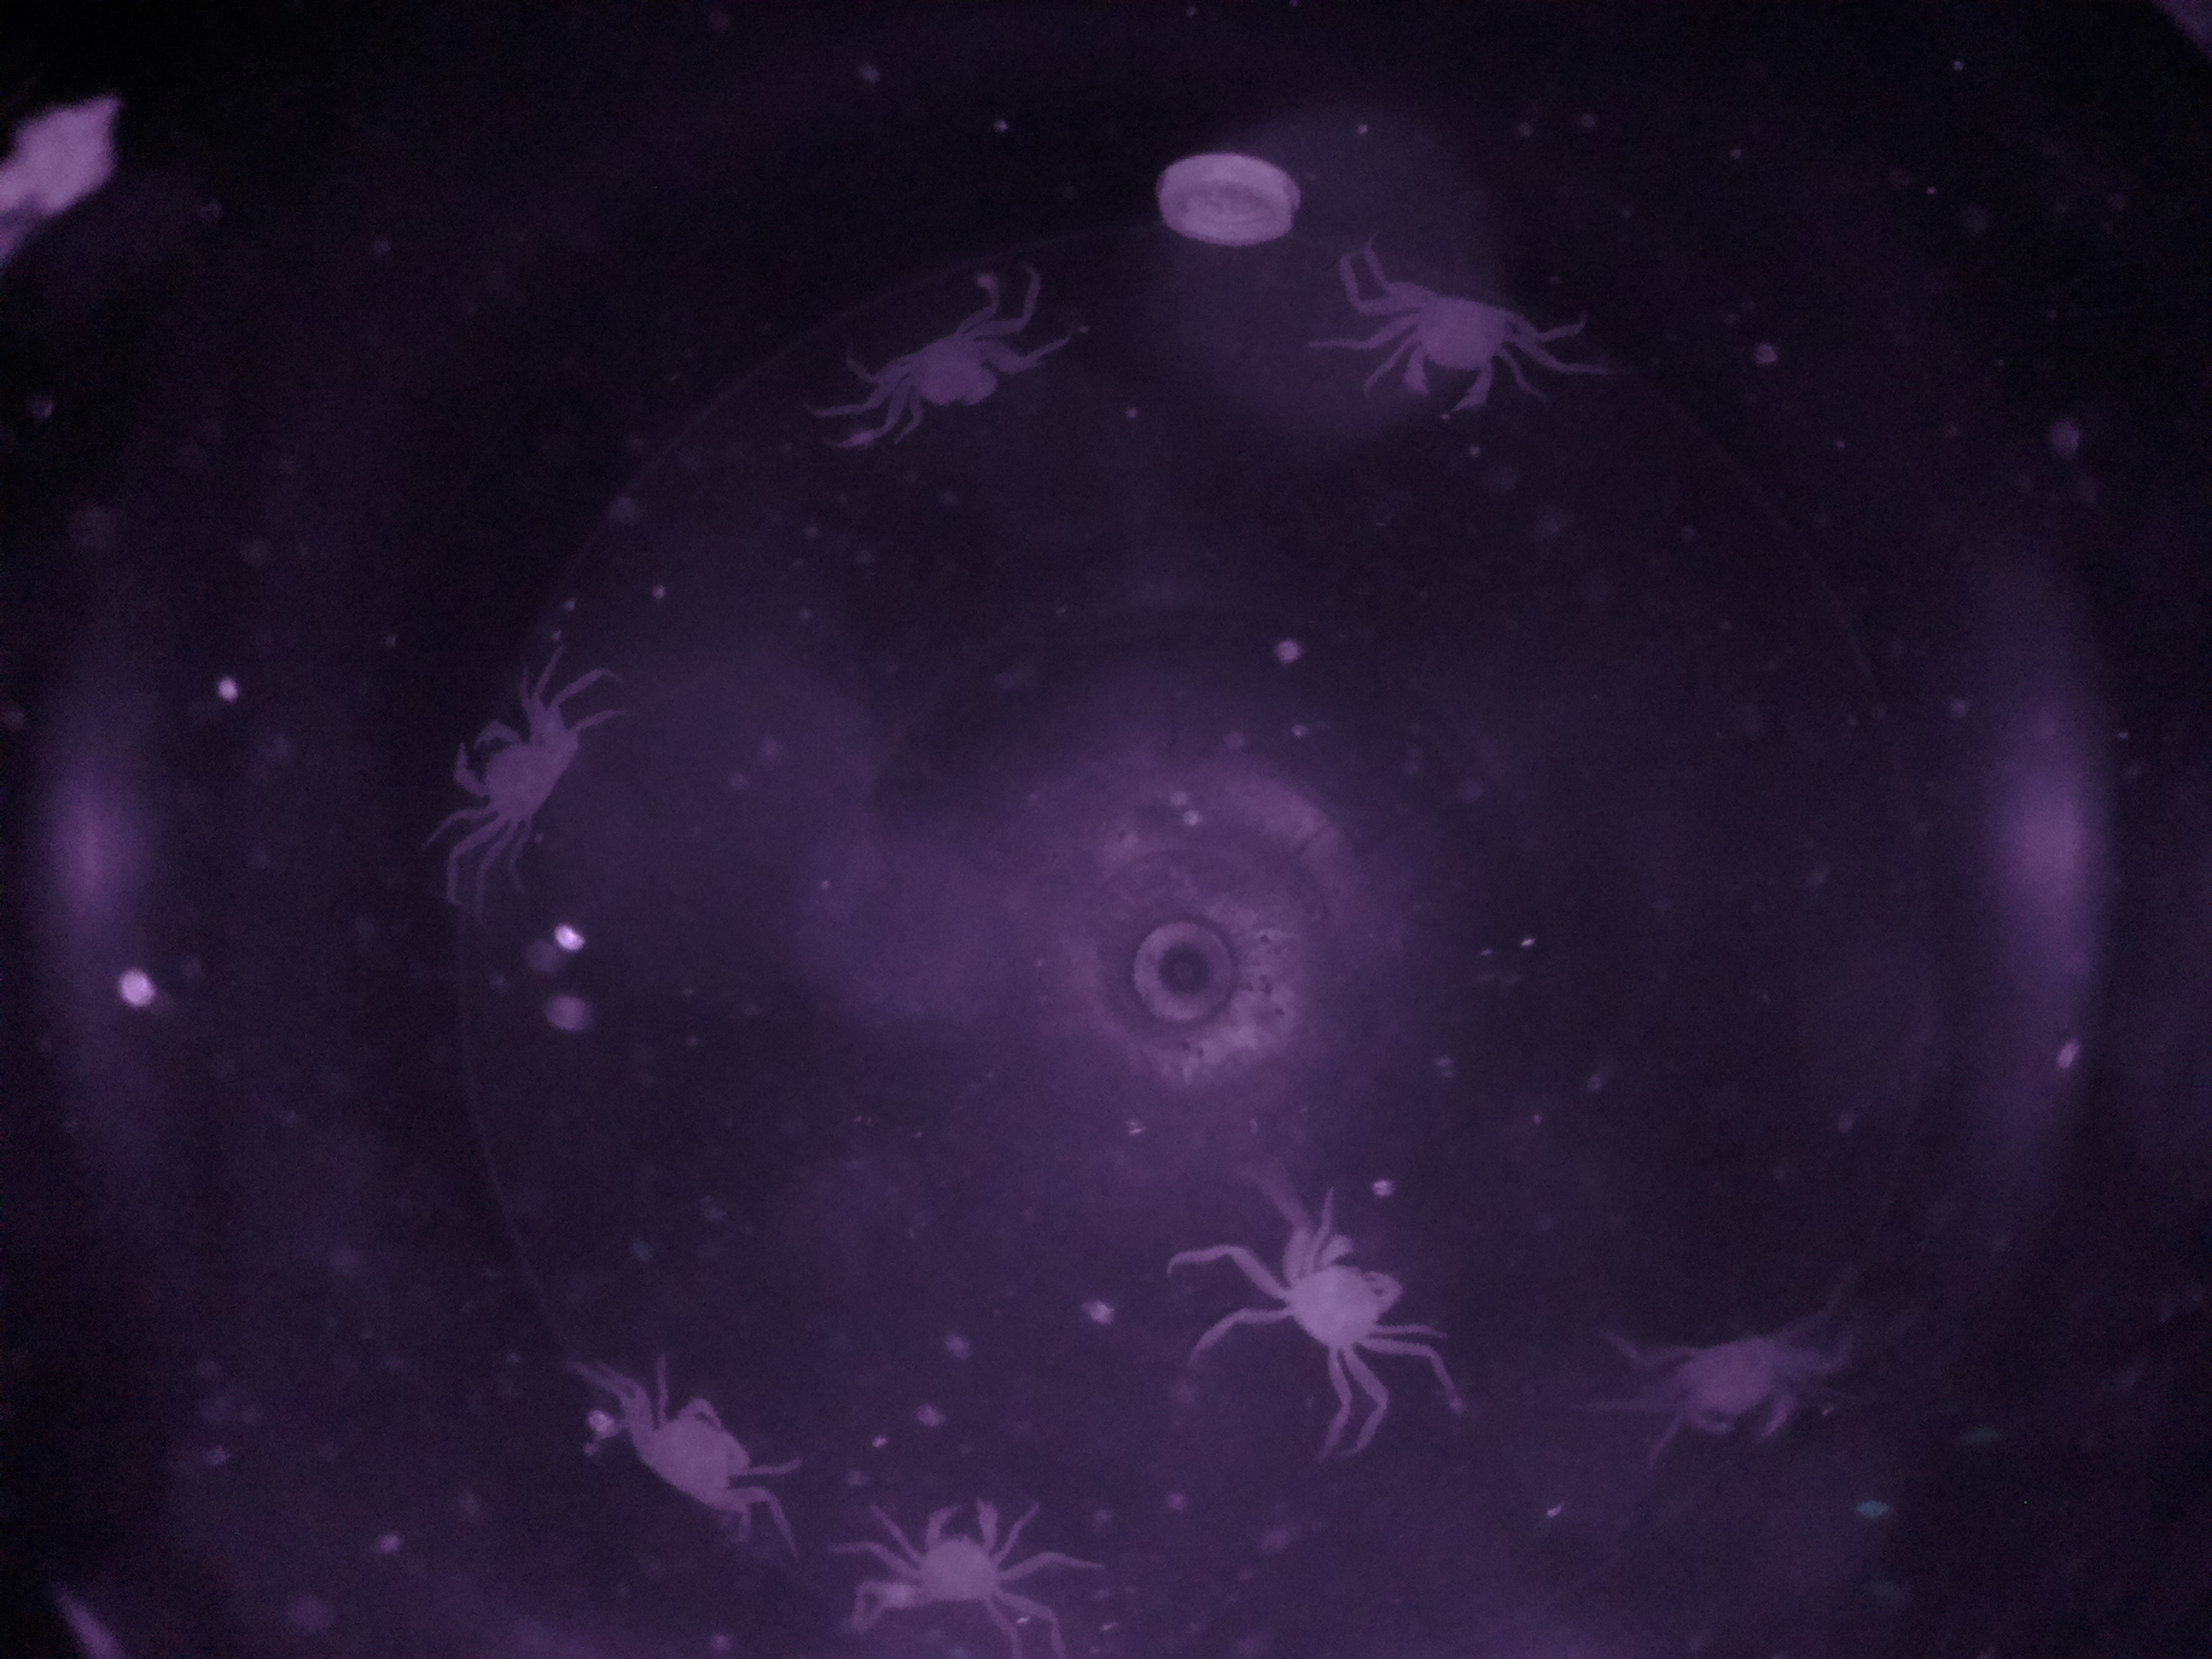Crab: (853, 1476, 1068, 1629), (592, 1375, 789, 1534), (434, 694, 613, 864), (1376, 254, 1543, 418), (1247, 1216, 1413, 1375), (862, 305, 1040, 432)
